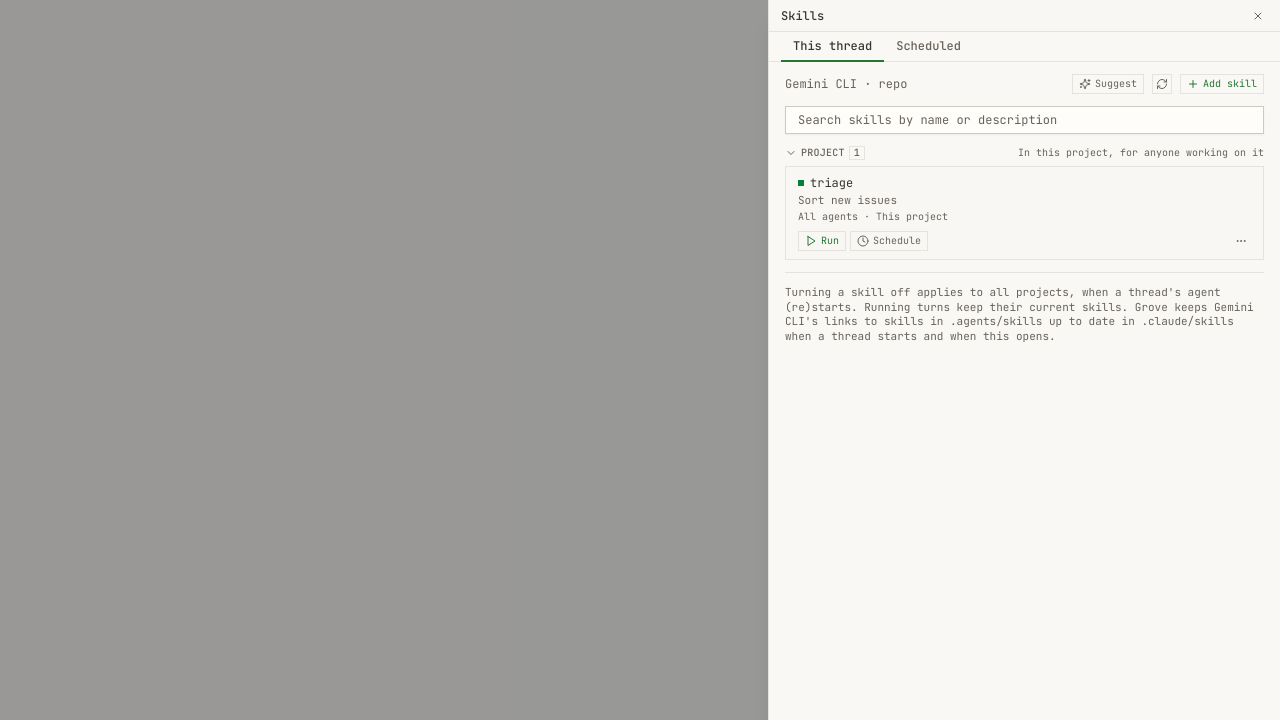
Test case: SkillsPanel › with a skill open in the editor › keeps the search while a skill is edited
Type "sort" into the search field labelled "Search skills" at (1024, 120), box [785,106,1264,134]
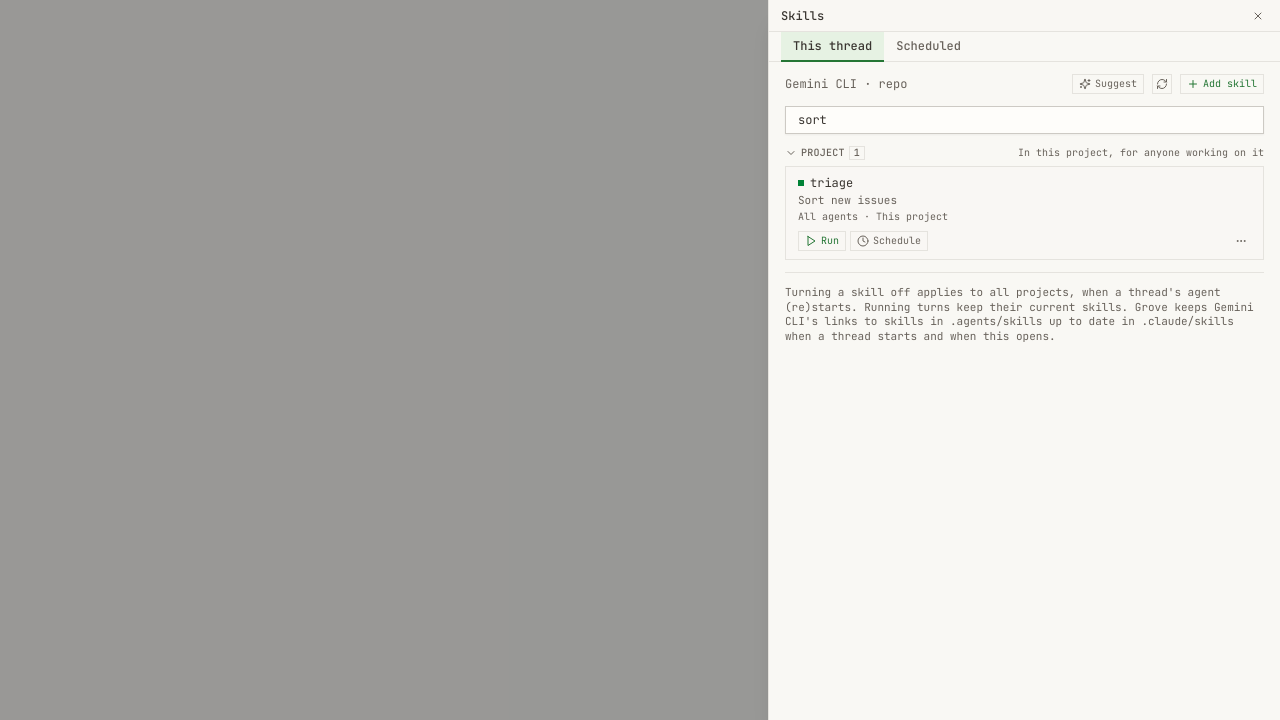
Click the button named "More for triage" at (1241, 241), box [1231,231,1251,251]
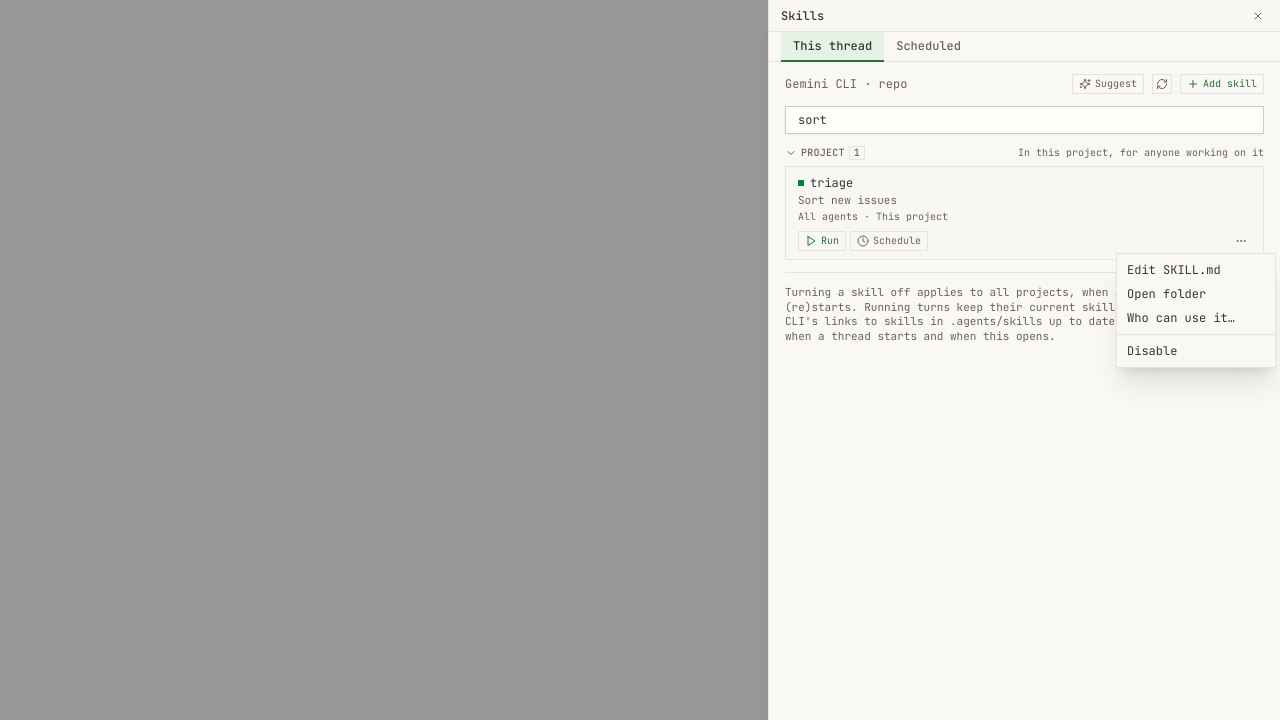
Click the menu item "Edit SKILL.md" at (1196, 270), box [1117,258,1275,282]
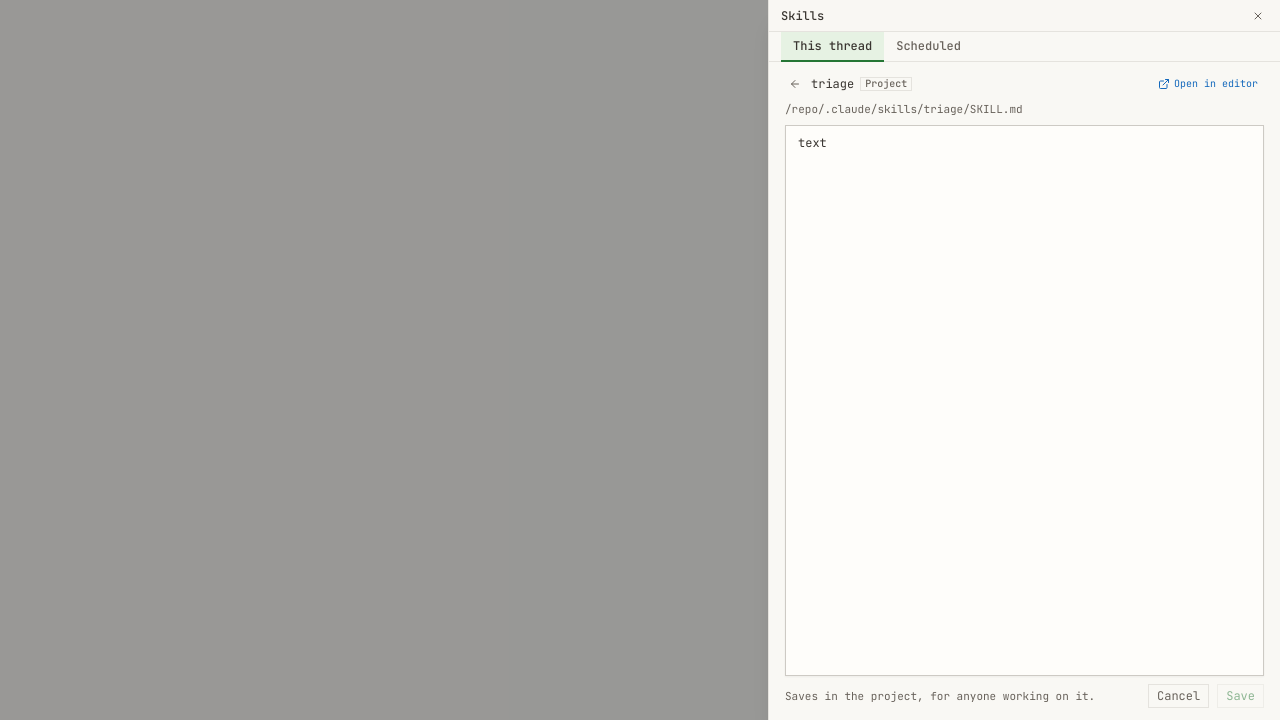
Now the text box named "SKILL.md for triage" is shown, box [785,125,1264,676]
Click the button "Cancel" at (1179, 696), box [1148,684,1209,708]
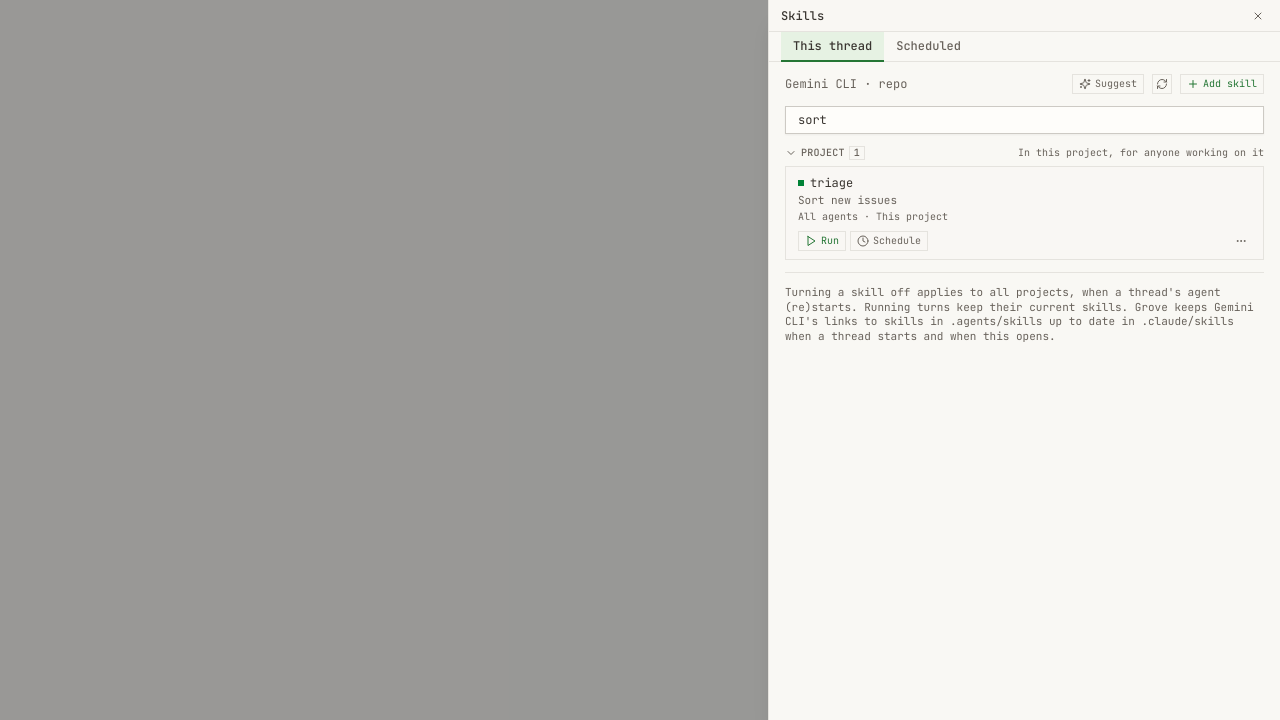
Now the search field named "Search skills" holds "sort", box [785,106,1264,134]
